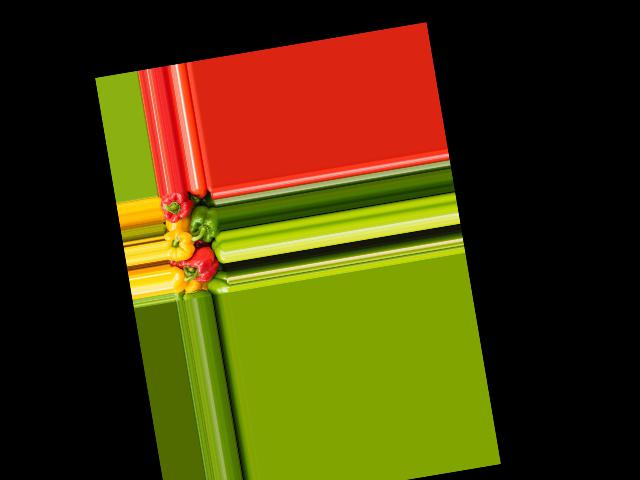bell_pepper: (158, 190, 196, 228)
